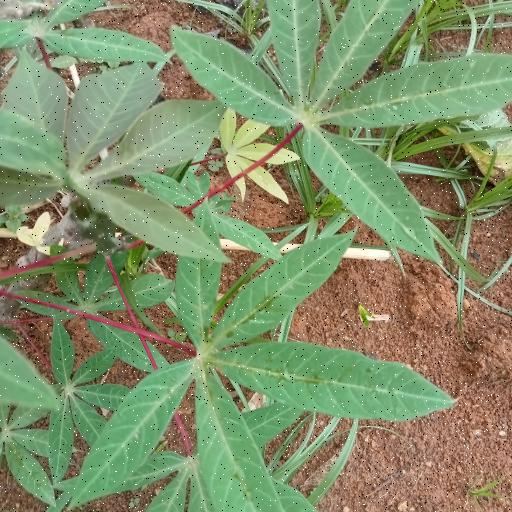Cassava_Mosaic: (70, 210, 434, 512), (174, 10, 512, 259), (0, 50, 229, 262)
